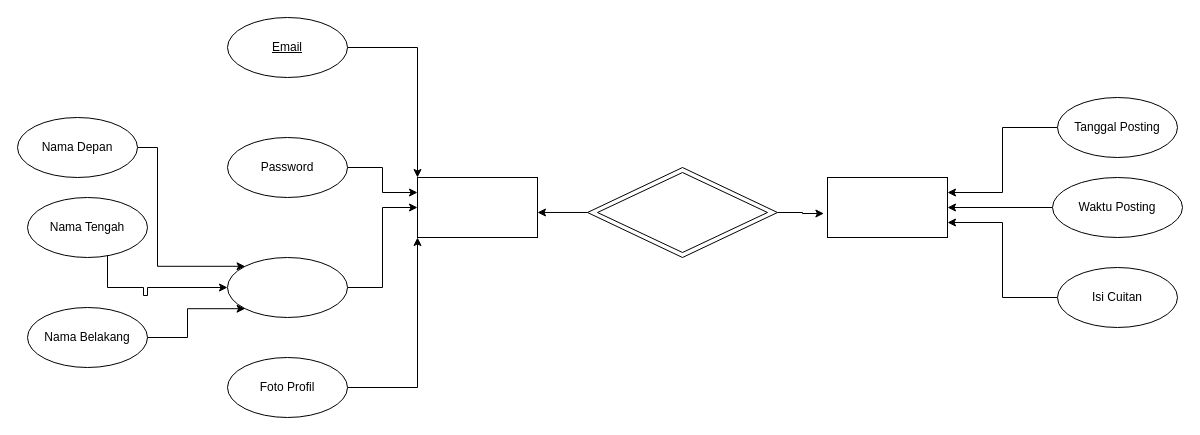
This 1200x435 diagram has some shape labels left out. The shapes that lost their labels are listed below. From the top down, each one's centre as x and y in pixels, then its label:
At (x=477, y=207): "Pengguna".
At (x=682, y=212): "Memposting".
At (x=887, y=207): "Cuitan".
At (x=287, y=287): "Nama".
